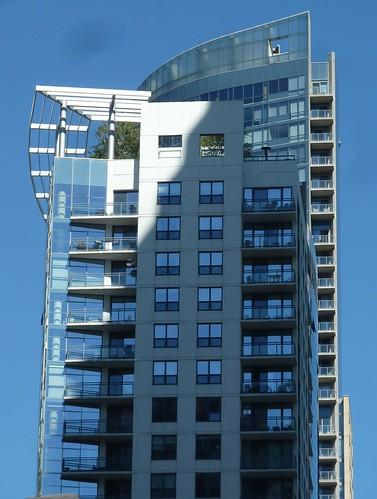building: (19, 9, 356, 499)
